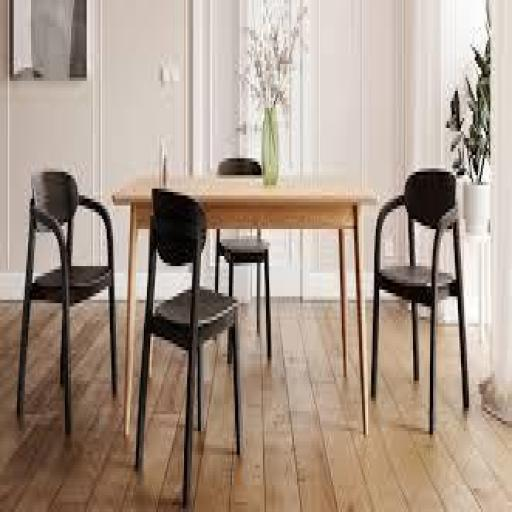chair: (135, 177, 241, 497), (17, 160, 118, 446), (370, 164, 472, 440)
